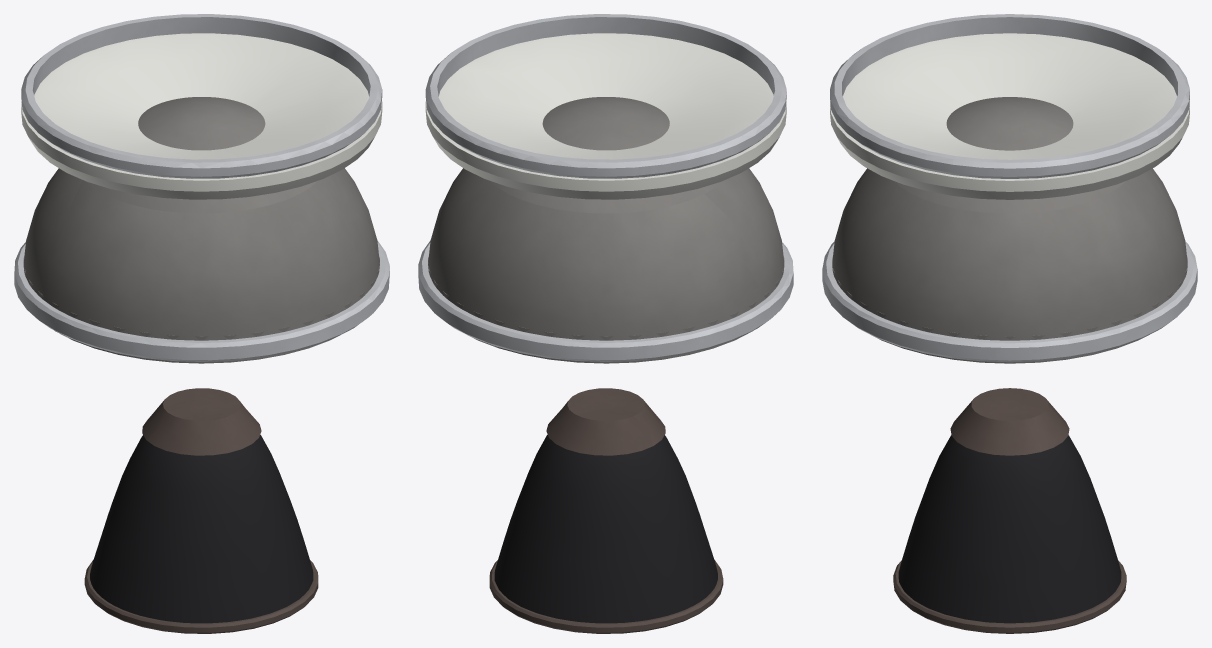
The model's file is ax_prop_14_kick_motor_s.glb.
The picture shows the model from 3 angles, left to right: view 1: azimuth 30°, elevation 25°; view 2: azimuth 150°, elevation 25°; view 3: azimuth 270°, elevation 25°; orthographic projection.
Parts seen in each view (by area): view 1: motor_case, mount_cone, nozzle, mount_ring, girth_ring, throat_housing, nozzle_lip; view 2: motor_case, mount_cone, nozzle, mount_ring, girth_ring, throat_housing, nozzle_lip; view 3: motor_case, mount_cone, nozzle, mount_ring, girth_ring, throat_housing, nozzle_lip.
Part boxes in pixels (x1,y1,x2,y2): motor_case: [23, 97, 379, 363]; mount_cone: [21, 33, 382, 199]; nozzle: [90, 434, 313, 623]; mount_ring: [21, 14, 382, 178]; girth_ring: [14, 240, 389, 361]; throat_housing: [142, 388, 261, 455]; nozzle_lip: [84, 560, 318, 633]; motor_case: [428, 97, 784, 363]; mount_cone: [425, 33, 786, 199]; nozzle: [494, 434, 717, 623]; mount_ring: [425, 14, 786, 178]; girth_ring: [418, 240, 793, 361]; throat_housing: [546, 388, 665, 455]; nozzle_lip: [489, 560, 723, 633]; motor_case: [832, 97, 1187, 363]; mount_cone: [830, 33, 1189, 199]; nozzle: [898, 435, 1121, 623]; mount_ring: [830, 14, 1189, 178]; girth_ring: [822, 241, 1197, 362]; throat_housing: [950, 388, 1069, 455]; nozzle_lip: [893, 560, 1126, 633].
Size of the model in its own units: 1.3 by 1.9 by 1.3.
5 materials, 3 textured.
